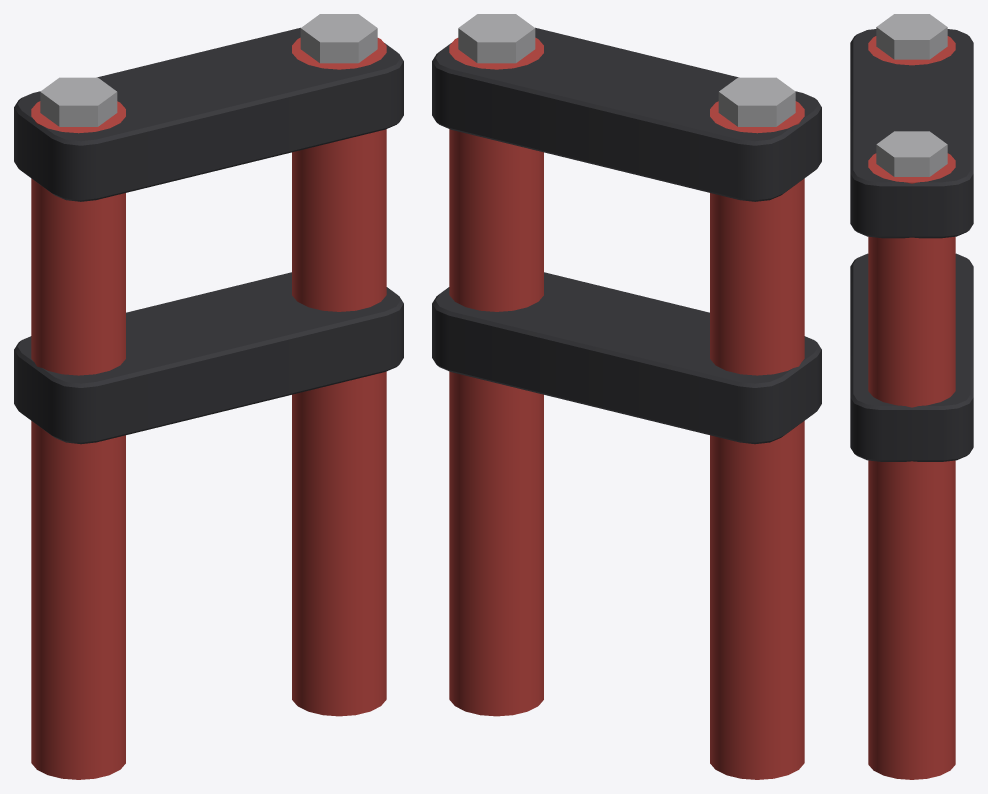
File: tourer_fork_black_upper.glb
3 views of the same model, side by side, from view 1: azimuth 30°, elevation 25°; view 2: azimuth 150°, elevation 25°; view 3: azimuth 270°, elevation 25° (orthographic). The views are drawn at different scales.
Visible parts, largest first — view 1: lod0; view 2: lod0; view 3: lod0.
Boxes of the visible parts, left/top/right/bottom form: lod0: left=14, top=14, right=403, bottom=779; lod0: left=432, top=14, right=821, bottom=779; lod0: left=850, top=14, right=973, bottom=779.
Size of what is drawn, in the model's own units: 0.24 by 0.441 by 0.08.
